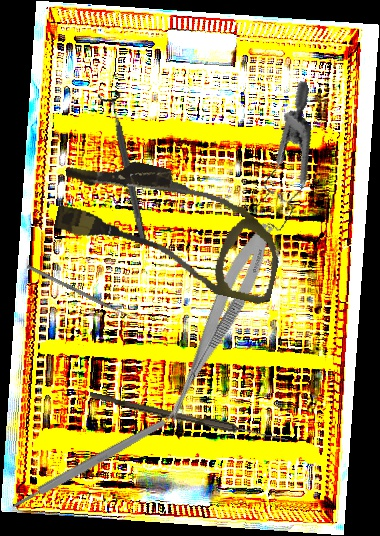Cannula: (47, 146, 294, 307)
Fixation Ring: (96, 89, 156, 247)
Micro Scissor: (156, 217, 281, 436)
Pusher: (26, 264, 141, 324)
Scalpel Handle: (9, 416, 169, 512)
Speculum: (216, 79, 345, 240)
Surgical Spoon: (88, 392, 289, 444)
